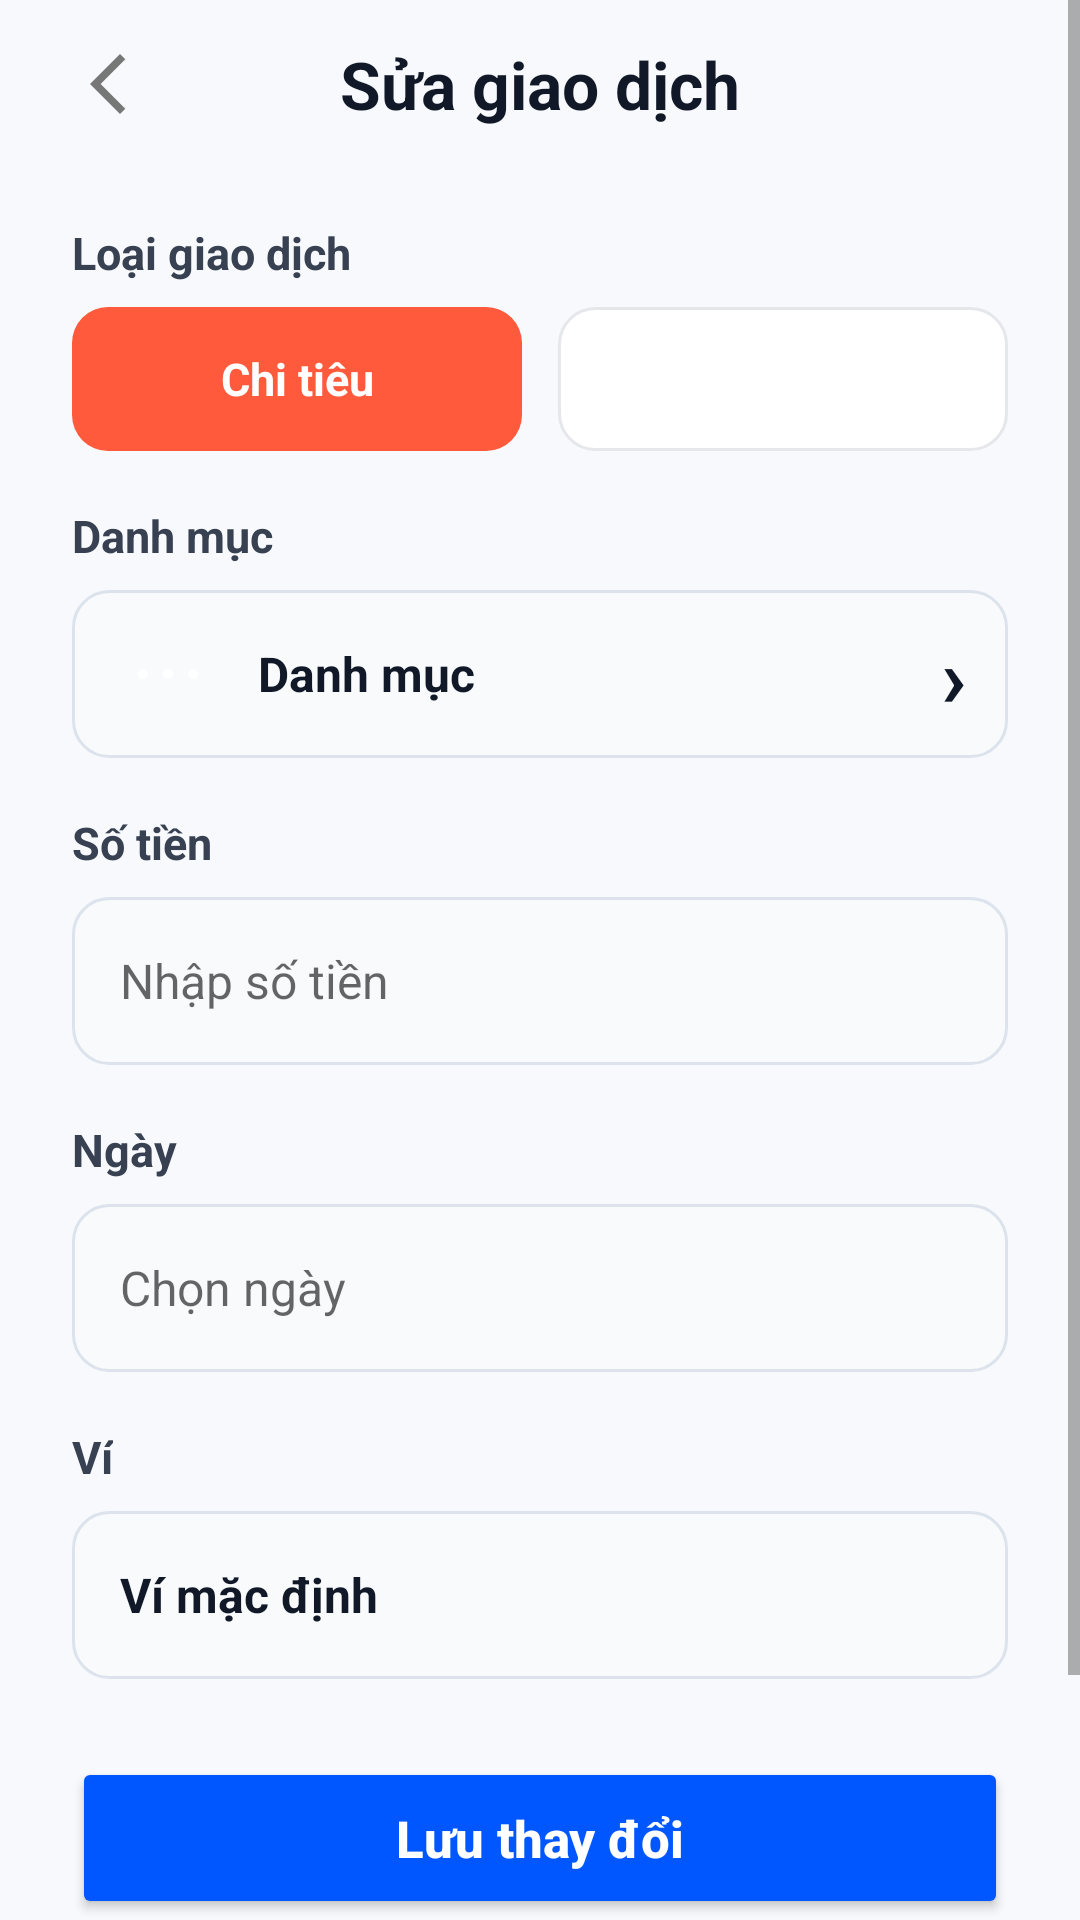

Where to tap for icons on this 1080 × 1920 app screen, as (x,y):
back: (107,84)
